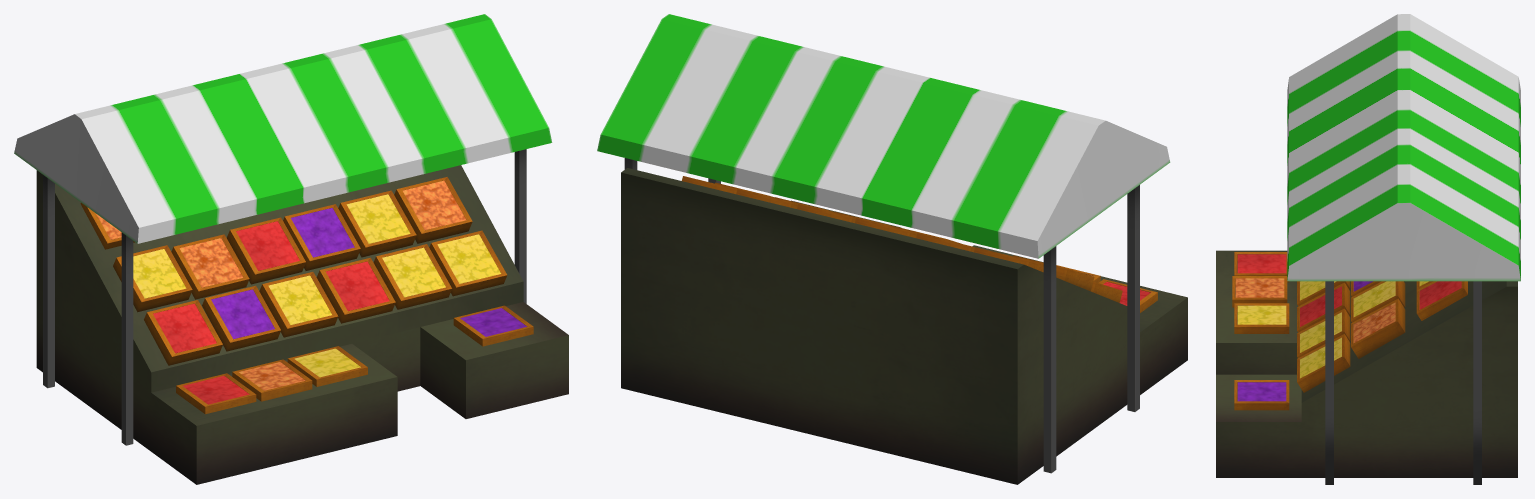
Rendered from stall 2.FBX.
The picture shows the model from 3 angles, left to right: view 1: azimuth 30°, elevation 25°; view 2: azimuth 150°, elevation 25°; view 3: azimuth 270°, elevation 25°; orthographic projection. The views are drawn at different scales.
Parts seen in each view (by area): view 1: stall; view 2: stall; view 3: stall.
Boxes of the visible parts, <box> form: stall: <box>14,14,568,484</box>; stall: <box>597,14,1187,484</box>; stall: <box>1216,14,1520,484</box>.
Bounding box in the file's own units: 278 × 192 × 187.
